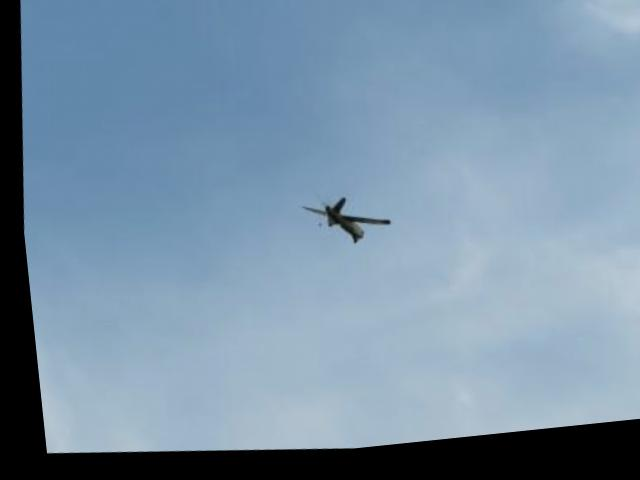uav: (286, 184, 393, 269)
